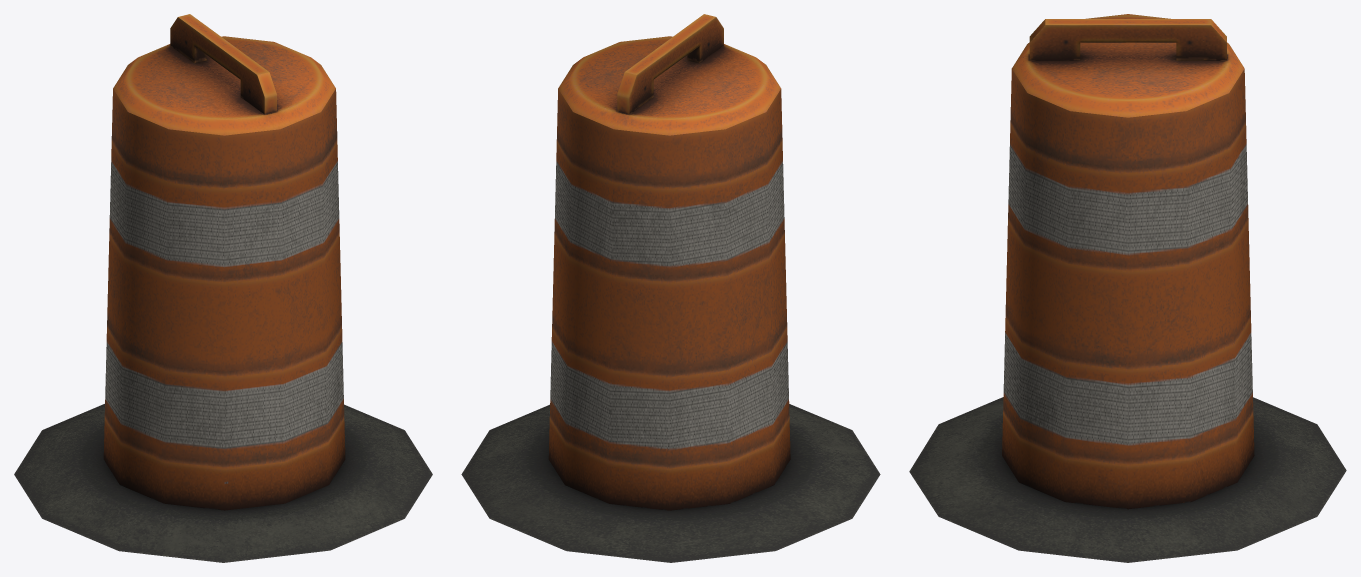
Rendered from TrafficCone.fbx.
3 views of the same model, side by side, from view 1: azimuth 30°, elevation 25°; view 2: azimuth 150°, elevation 25°; view 3: azimuth 270°, elevation 25° (orthographic). The views are drawn at different scales.
Visible parts, largest first — view 1: Cylinder003; view 2: Cylinder003; view 3: Cylinder003.
Part boxes in pixels (x1,y1,x2,y2): Cylinder003: (14,14,432,562); Cylinder003: (461,14,880,562); Cylinder003: (909,14,1346,562).
Size of the model in its own units: 316 by 358 by 316.
